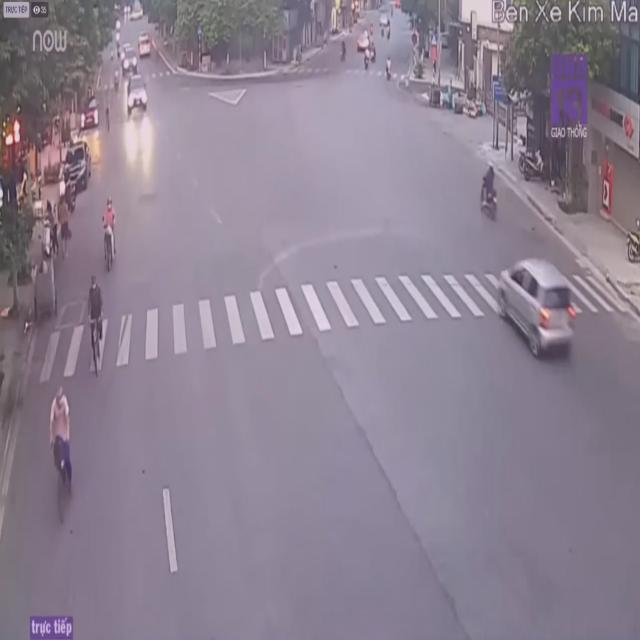car: (492, 257, 582, 363)
motorbike: (98, 197, 118, 275), (479, 161, 502, 225)
